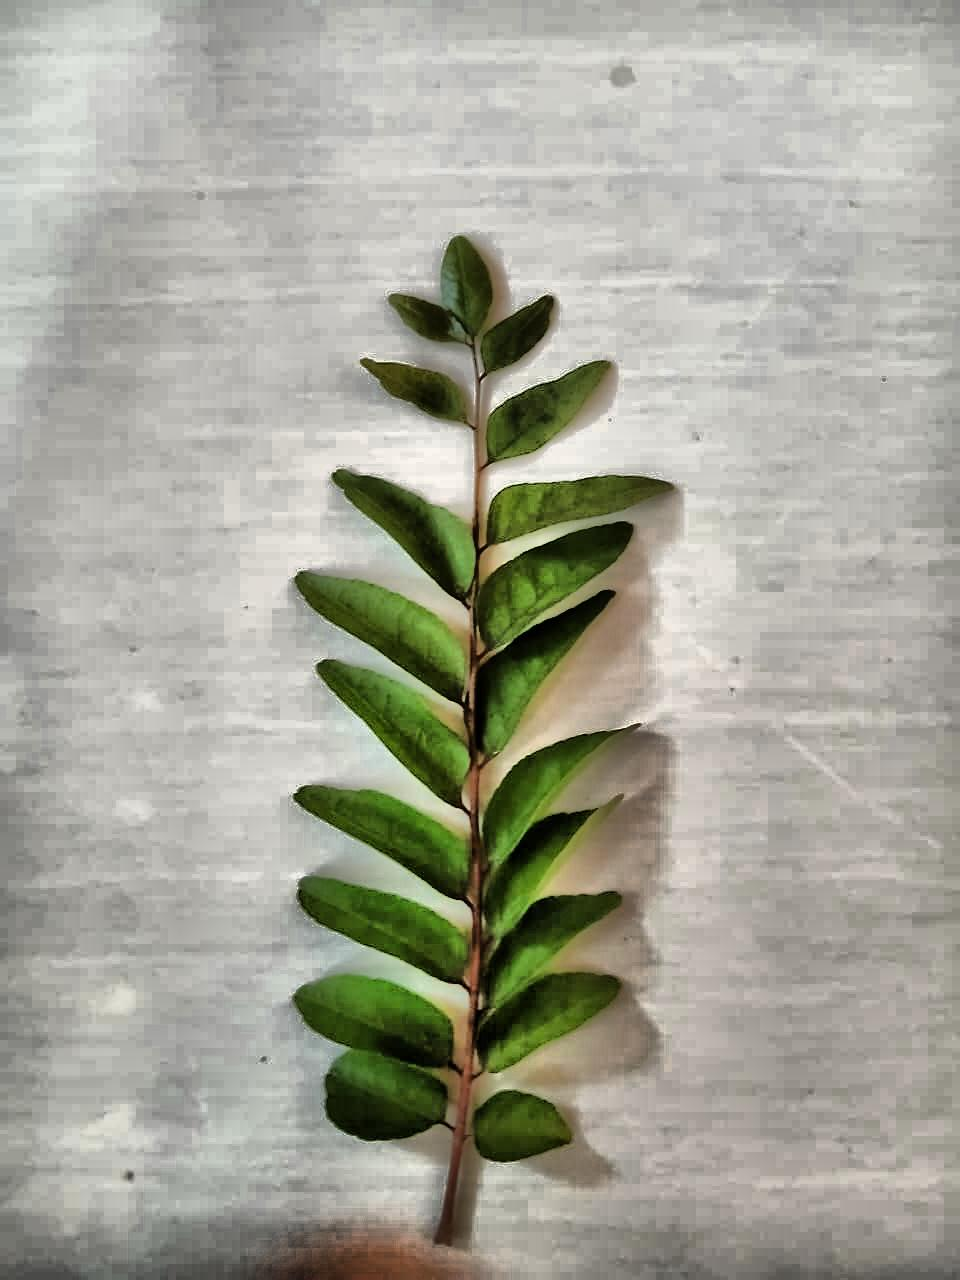daun kari: (295, 236, 672, 1242)
